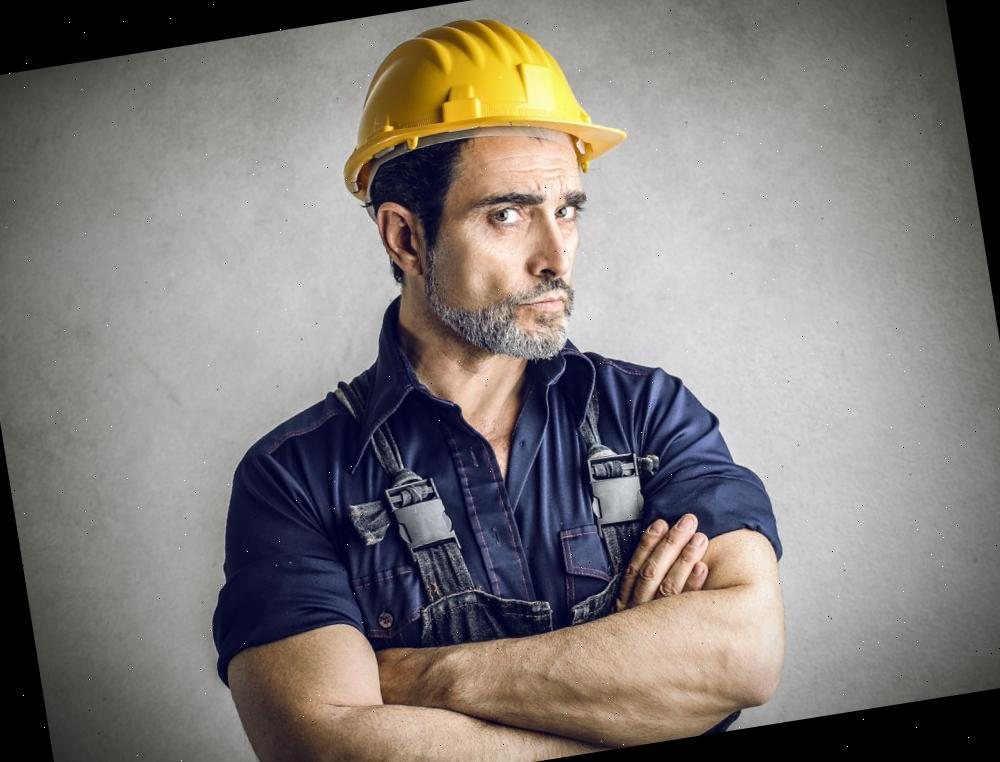helmet: (326, 0, 635, 194)
no_wear: (231, 358, 740, 680)
